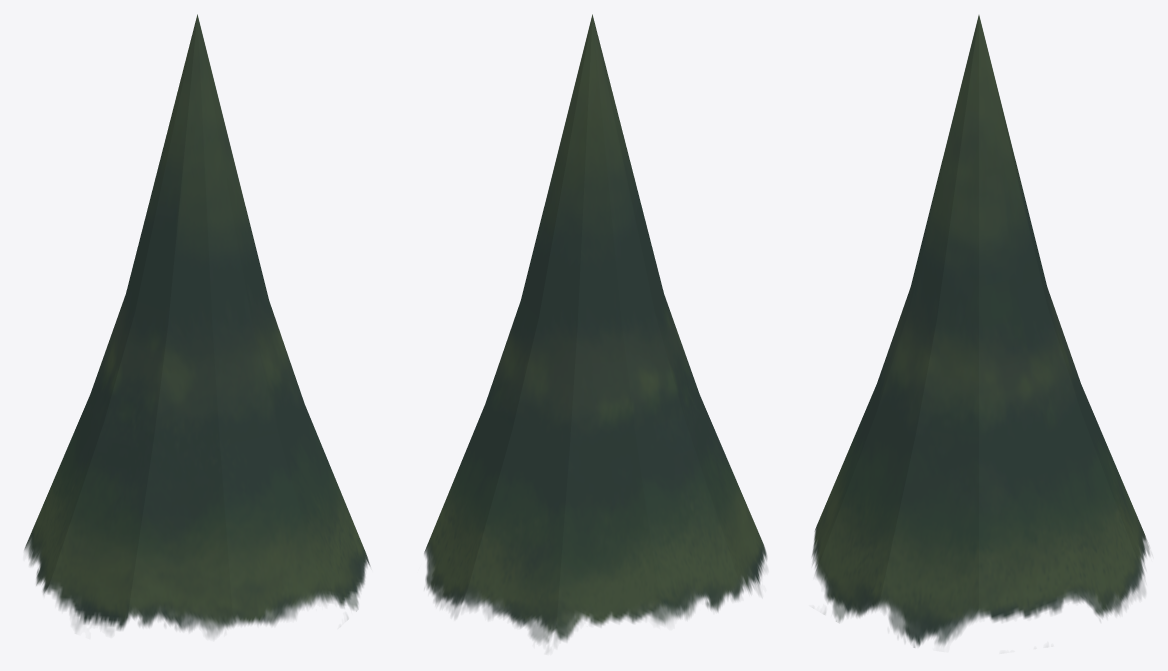
Rendered from polysurface126_lambert6_0_lev2.glb.
3 views of the same model, side by side, from view 1: azimuth 30°, elevation 25°; view 2: azimuth 150°, elevation 25°; view 3: azimuth 270°, elevation 25° (orthographic).
Visible parts, largest first — view 1: polysurface126_lambert6_0_lev2; view 2: polysurface126_lambert6_0_lev2; view 3: polysurface126_lambert6_0_lev2.
Boxes of the visible parts, bbox=[...] form: polysurface126_lambert6_0_lev2: bbox=[24, 14, 370, 636]; polysurface126_lambert6_0_lev2: bbox=[424, 14, 766, 643]; polysurface126_lambert6_0_lev2: bbox=[812, 15, 1149, 647].
Size of the model in its own units: 3.96 by 6.71 by 3.76.
Materials: 1 (1 with a texture image).
